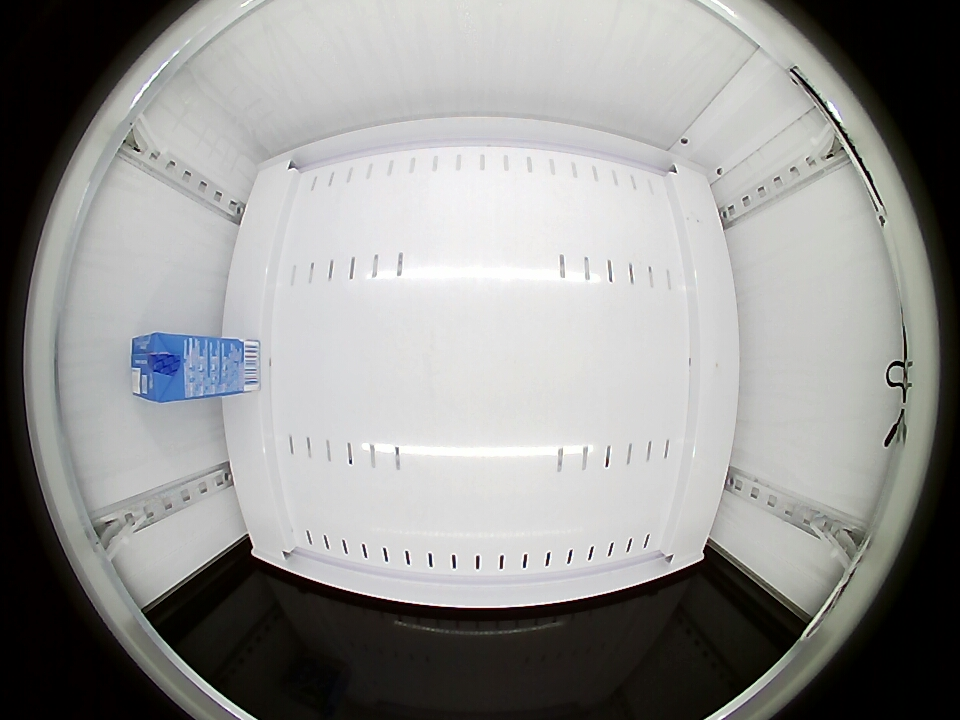weitanai: (131, 333, 193, 403)
